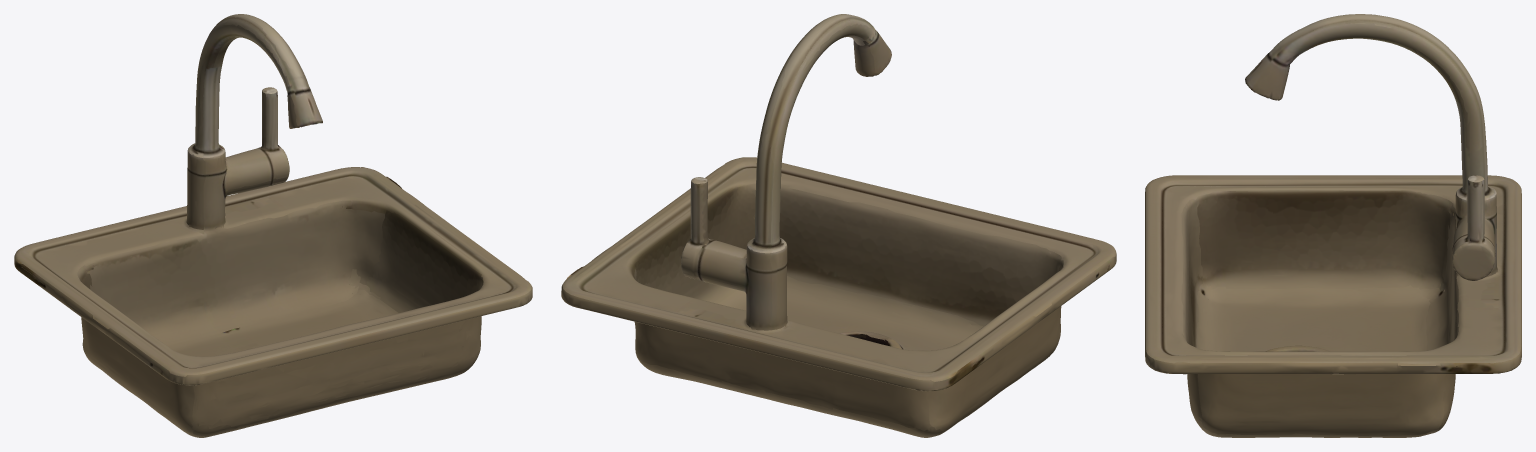
3 views of the same model, side by side, from view 1: azimuth 30°, elevation 25°; view 2: azimuth 150°, elevation 25°; view 3: azimuth 270°, elevation 25° (orthographic). The views are drawn at different scales.
Visible parts, largest first — view 1: tmp79zb7tlf.ply; view 2: tmp79zb7tlf.ply; view 3: tmp79zb7tlf.ply.
Part boxes in pixels (x1,y1,x2,y2): tmp79zb7tlf.ply: [14, 14, 532, 437]; tmp79zb7tlf.ply: [561, 14, 1116, 437]; tmp79zb7tlf.ply: [1145, 14, 1521, 437].
Size of the model in its own units: 1.98 by 1.76 by 1.66.
1 material, 1 textured.
